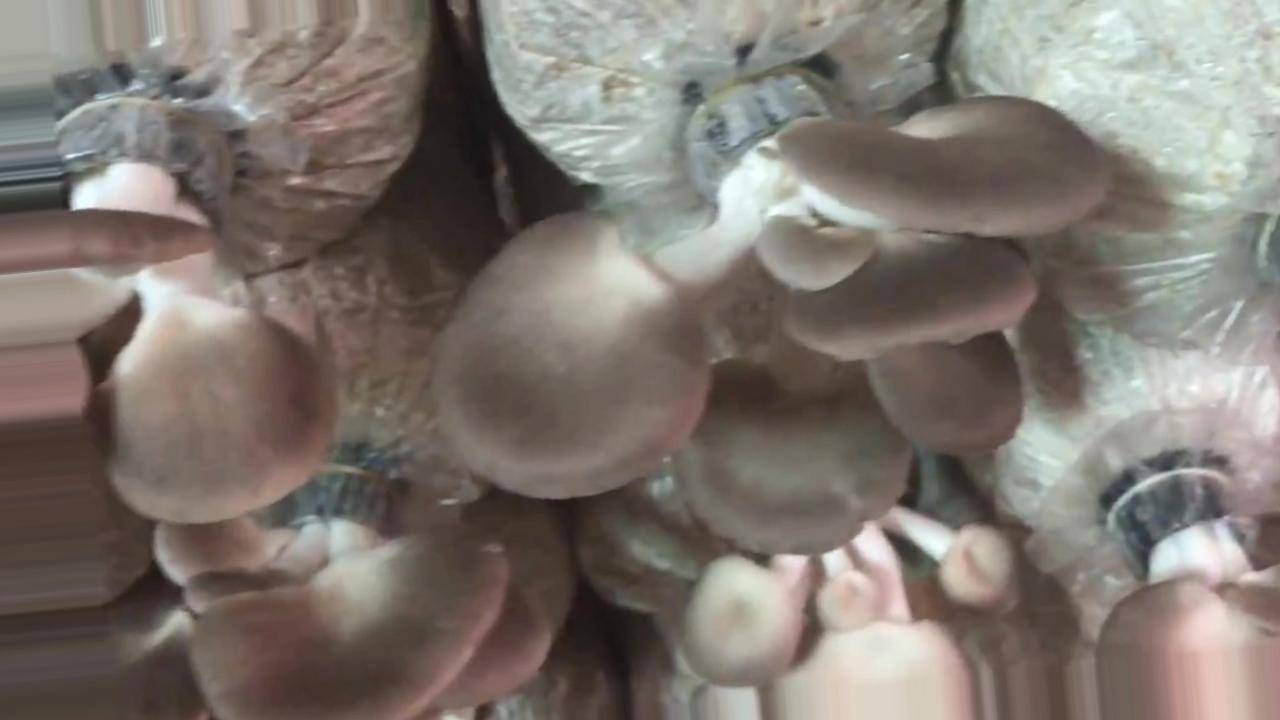nam: (438, 68, 1113, 552), (1, 95, 331, 525), (168, 467, 548, 720), (681, 509, 1018, 720), (1098, 473, 1280, 719)
